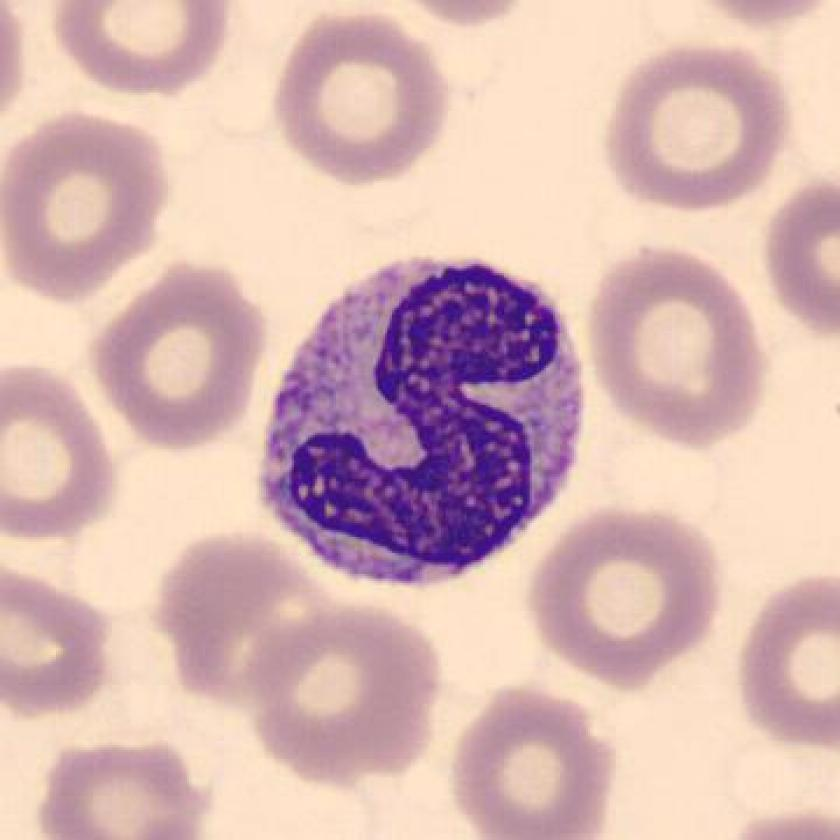monocyte: (232, 230, 612, 614)
